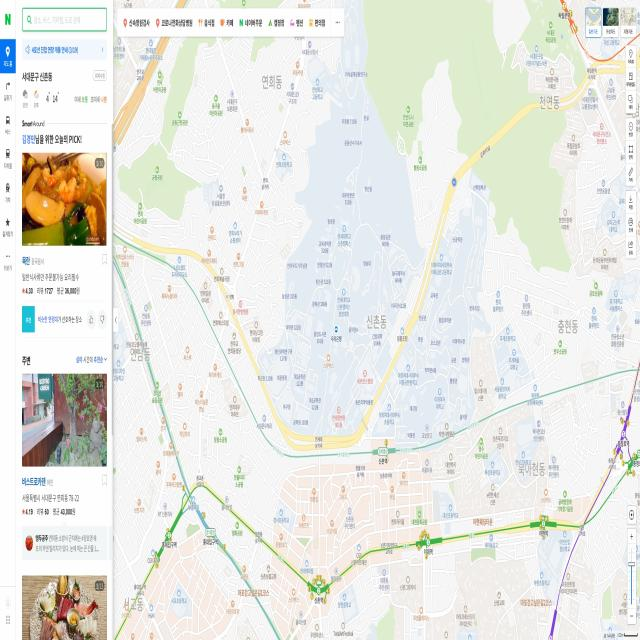search: (22, 7, 108, 33)
tab-bar: (117, 8, 343, 36)
